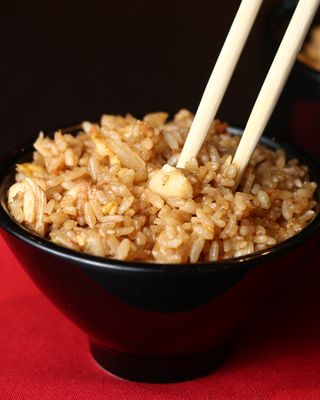salad: (175, 0, 263, 171)
sushi: (1, 55, 320, 383)
